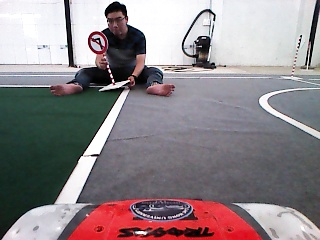ban: (86, 30, 111, 55)
